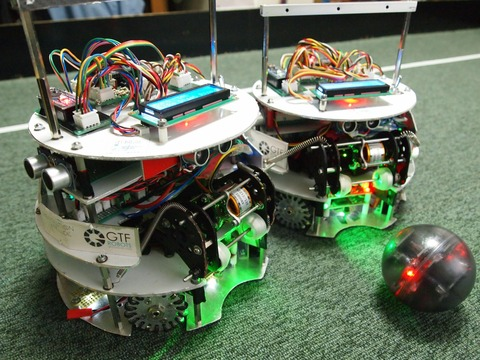Robot: (5, 26, 269, 342), (250, 1, 421, 238)
